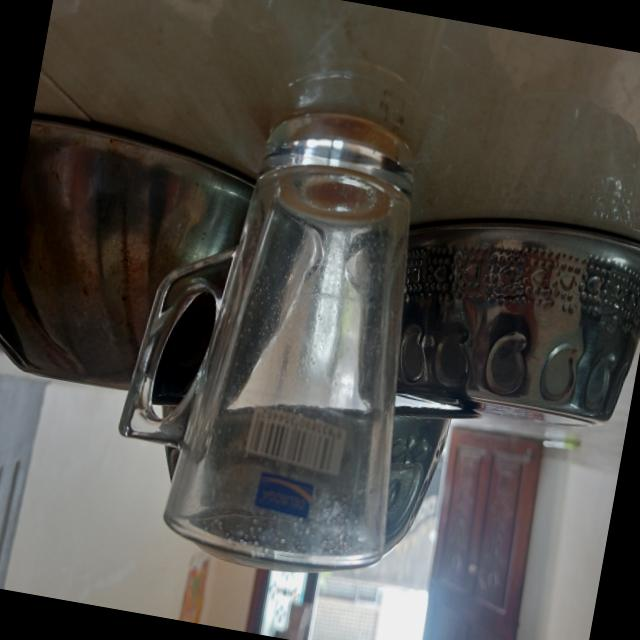glass-VX4N: (96, 78, 455, 586)
